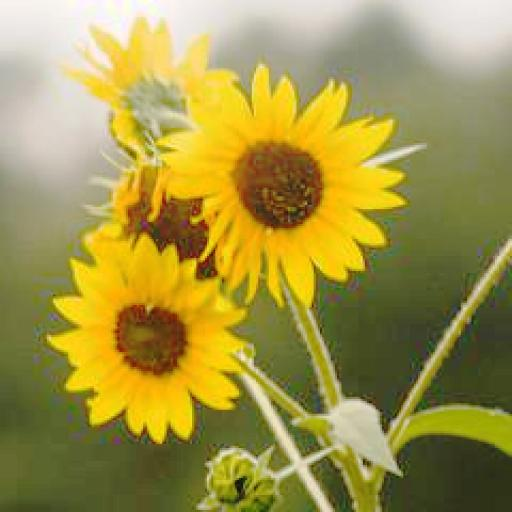sunflower: (158, 70, 403, 305), (53, 230, 250, 442)
